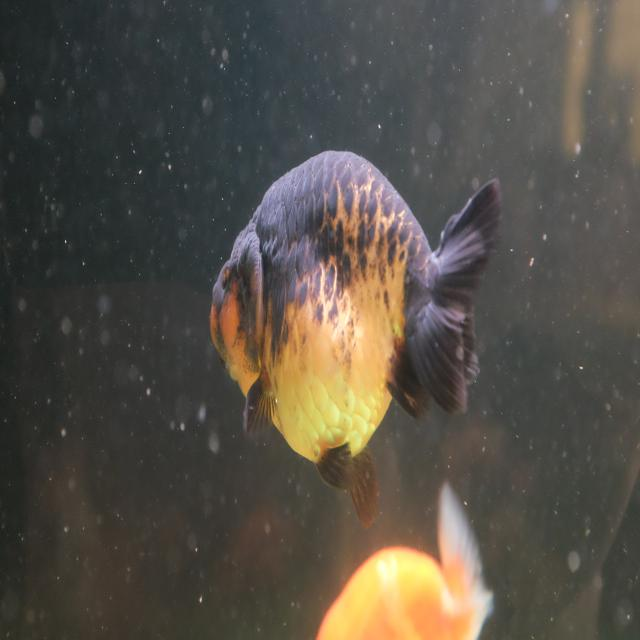Goldfish: (204, 144, 504, 529)
